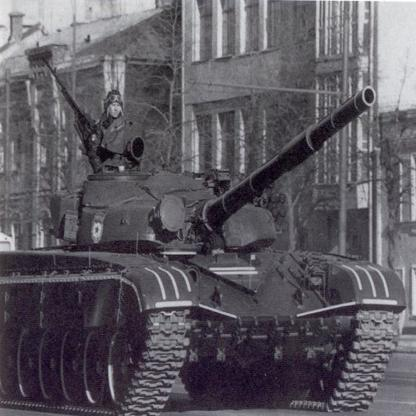Tank: (1, 127, 410, 416)
